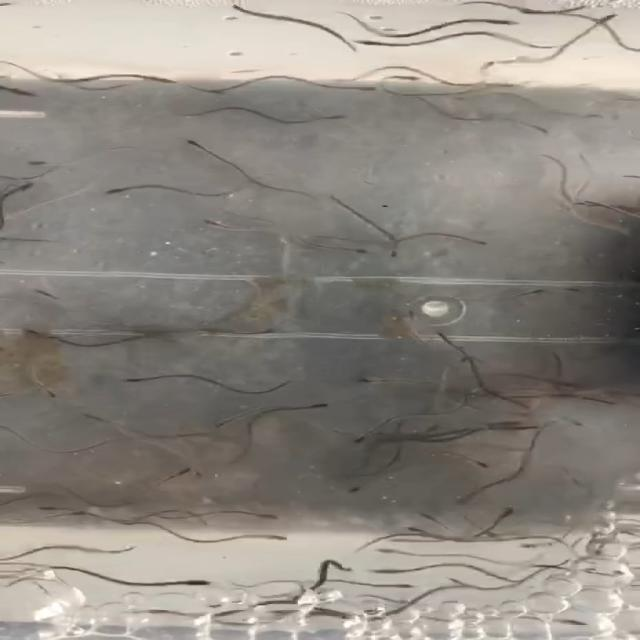active_glass_eel: (452, 222, 496, 254), (172, 130, 228, 153), (576, 10, 628, 30), (312, 104, 353, 128), (192, 219, 244, 236), (23, 486, 72, 504), (154, 70, 194, 92), (36, 382, 82, 401), (284, 45, 338, 61), (340, 238, 378, 260), (92, 184, 137, 202), (202, 410, 242, 430), (120, 376, 160, 396), (403, 522, 446, 540), (470, 453, 508, 473), (356, 34, 388, 57), (172, 573, 218, 589), (373, 235, 406, 257), (10, 326, 65, 339), (400, 371, 433, 392), (241, 506, 284, 522), (571, 194, 609, 212), (357, 560, 395, 578), (286, 397, 331, 412), (391, 67, 430, 84), (339, 82, 389, 95), (27, 288, 77, 301), (490, 380, 528, 397), (444, 401, 479, 419), (13, 178, 55, 193), (155, 462, 194, 478), (27, 499, 66, 515), (248, 319, 280, 338), (242, 347, 274, 366), (7, 84, 50, 98), (256, 530, 296, 545), (524, 116, 551, 138), (371, 539, 410, 554), (292, 422, 327, 438), (487, 14, 521, 30), (500, 500, 522, 522), (390, 574, 418, 590), (340, 482, 368, 497), (508, 421, 528, 435)
